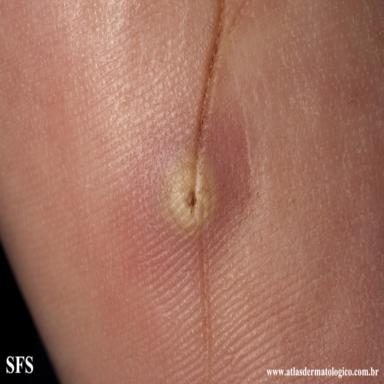Tungiasis: (164, 157, 213, 228)
